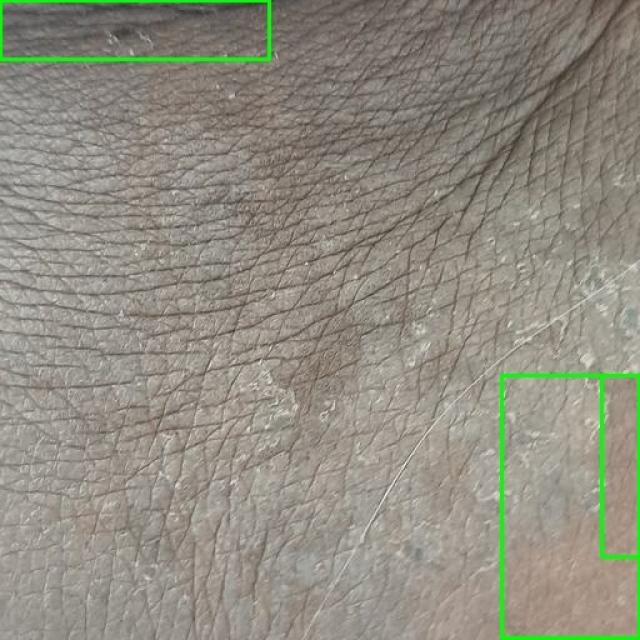Eczema: (501, 376, 639, 639), (0, 0, 269, 59), (601, 375, 639, 556)
